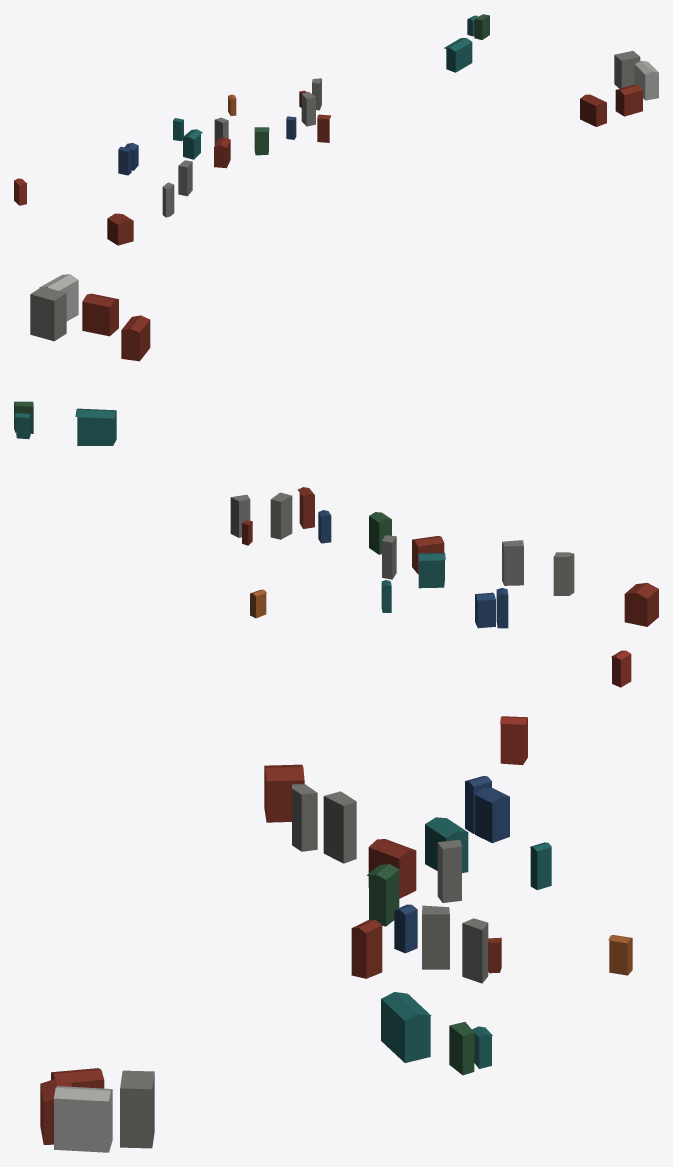
File: near-15-27360-14858.c815e119.glb
3 renders of one model, top to bottom at view 1: azimuth 30°, elevation 25°; view 2: azimuth 150°, elevation 25°; view 3: azimuth 270°, elevation 25°, orthographic. The views are drawn at different scales.
Bounding box in the file's own units: 458 × 79.61 × 221.
